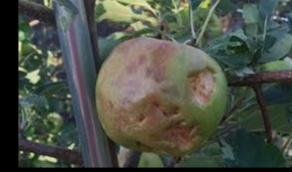rotten apple: (95, 34, 225, 158)
